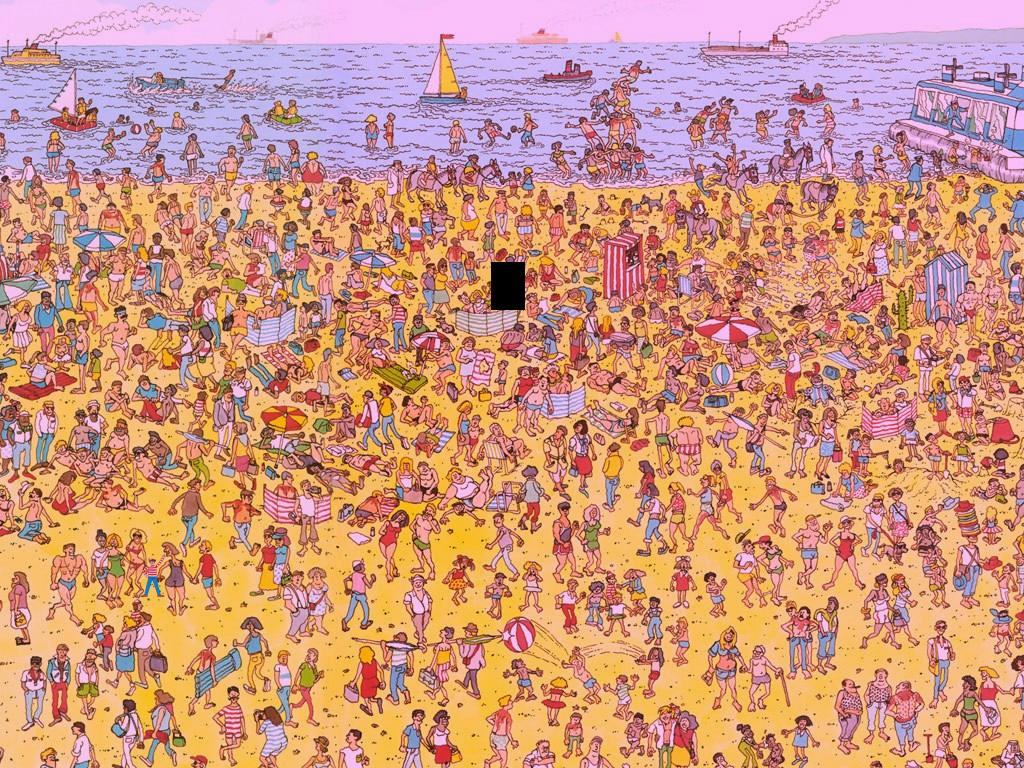waldos: (136, 552, 170, 600)
